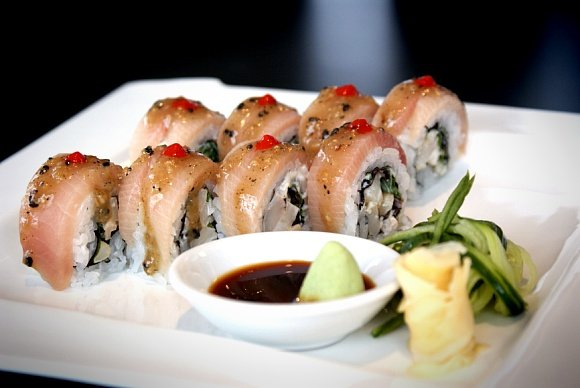sushi: (167, 230, 399, 352)
